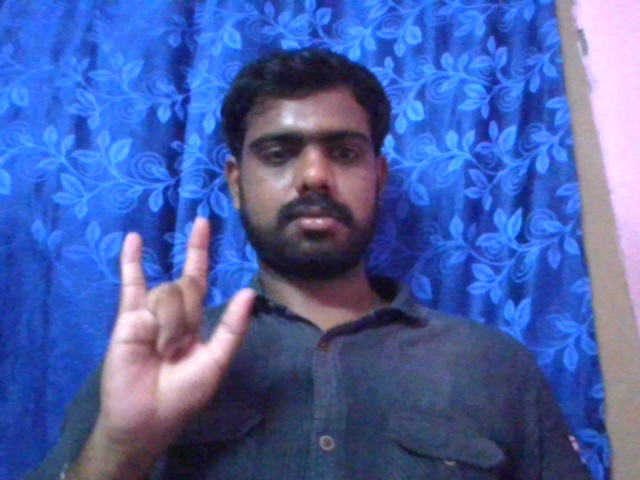IloveYou: (96, 209, 255, 442)
